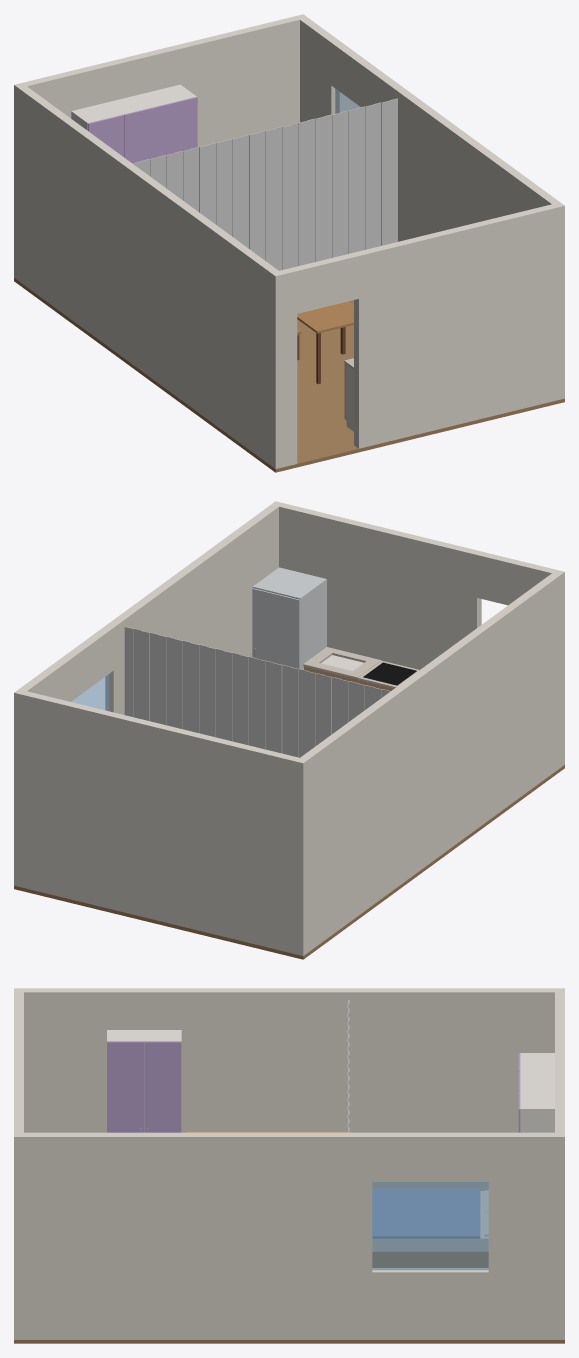
Rendered from studio-apartment.glb.
3 renders of one model, top to bottom at view 1: azimuth 30°, elevation 25°; view 2: azimuth 150°, elevation 25°; view 3: azimuth 270°, elevation 25°, orthographic. The views are drawn at different scales.
Parts seen in each view (by area): view 1: wall_4, wall_2, wall_3, wall_5, floor, wall_0, wall_8, wall_1, wall_7, bed_housing_1, bed_housing_4, bed_housing_2 (+27 smaller); view 2: wall_3, wall_4, wall_2, wall_5, fridge, wall_7, wall_1, floor, sink, wall_0, cooktop, curtain_14 (+25 smaller); view 3: wall_5, wall_4, wall_8, glass_0, wall_6, wall_7, bed_2, wall_3, shoes_2, shoes_4, wall_2, bed_housing_1 (+4 smaller).
Boxes of the visible parts, x1,y1,x2,y2 form: wall_4: (18, 86, 278, 465); wall_2: (354, 202, 564, 448); wall_3: (14, 14, 307, 280); wall_5: (386, 81, 559, 241); floor: (14, 278, 564, 472); wall_0: (271, 267, 297, 468); wall_8: (300, 18, 339, 122); wall_1: (293, 252, 358, 313); wall_7: (331, 41, 394, 107); bed_housing_1: (71, 84, 196, 130); bed_housing_4: (124, 106, 161, 162); bed_housing_2: (161, 97, 197, 155); wall_3: (14, 689, 307, 955); wall_4: (300, 573, 560, 952); wall_2: (271, 501, 481, 669); wall_5: (105, 505, 278, 714); fridge: (252, 567, 326, 669); wall_7: (50, 626, 113, 701); wall_1: (477, 551, 542, 605); floor: (14, 765, 564, 959); sink: (303, 647, 381, 683); wall_0: (538, 566, 564, 767); cooktop: (357, 660, 419, 691); curtain_14: (273, 663, 282, 753); wall_5: (24, 1132, 372, 1339); wall_4: (24, 988, 554, 1190); wall_8: (488, 1132, 554, 1339); glass_0: (372, 1182, 488, 1270); wall_6: (372, 1268, 488, 1339); wall_7: (372, 1132, 488, 1181); bed_2: (372, 1189, 479, 1238); wall_3: (555, 988, 564, 1339); shoes_2: (144, 1041, 181, 1132); shoes_4: (107, 1041, 143, 1132); wall_2: (14, 1031, 23, 1339); bed_housing_1: (520, 1053, 554, 1132).
Bounding box in the file's own units: 4.24 × 2.75 × 6.64.
